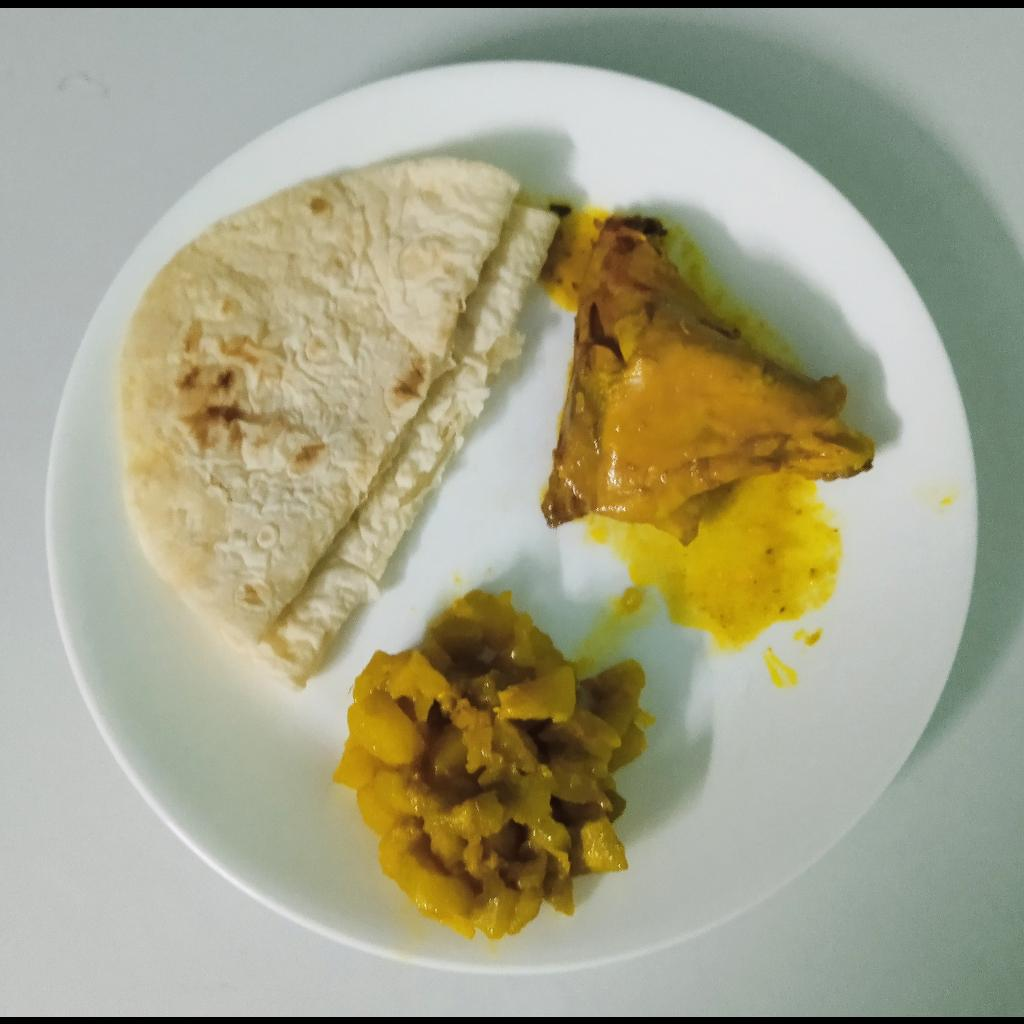chicken: (539, 210, 873, 545)
lau: (334, 591, 648, 937)
ruti: (113, 153, 559, 697)
